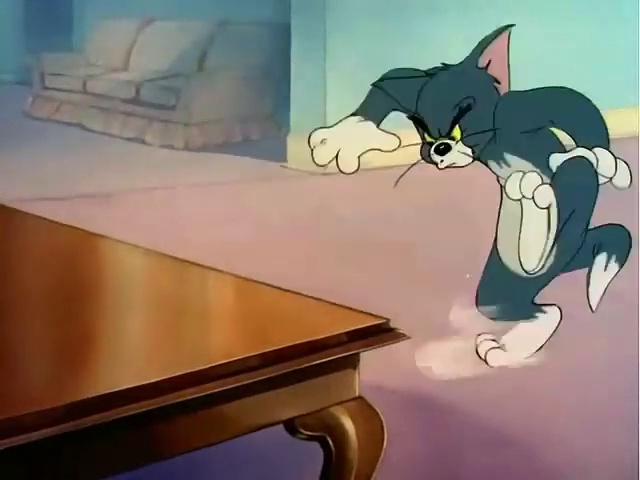tom: (306, 15, 640, 384)
